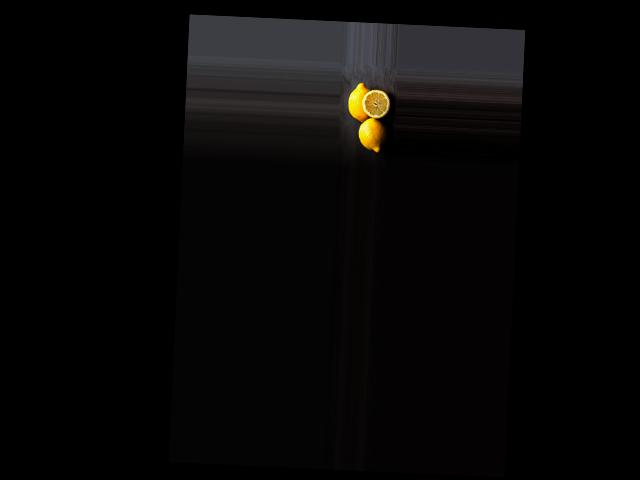lemon: (344, 79, 373, 123)
